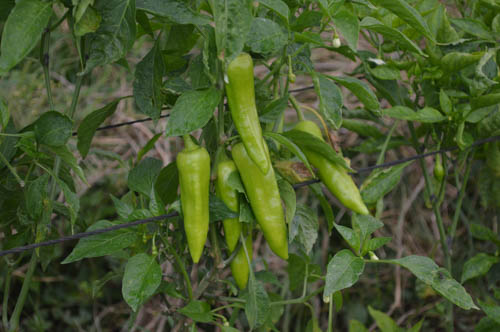ChiliPepper: (228, 143, 289, 257), (295, 121, 367, 213), (227, 55, 268, 173), (171, 151, 209, 258), (214, 160, 241, 251), (233, 203, 252, 289)
